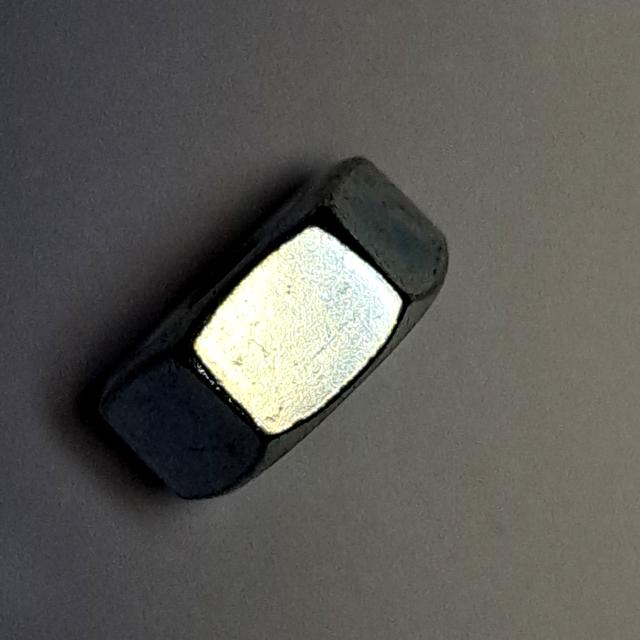Side_Excellent: (66, 134, 460, 522)
